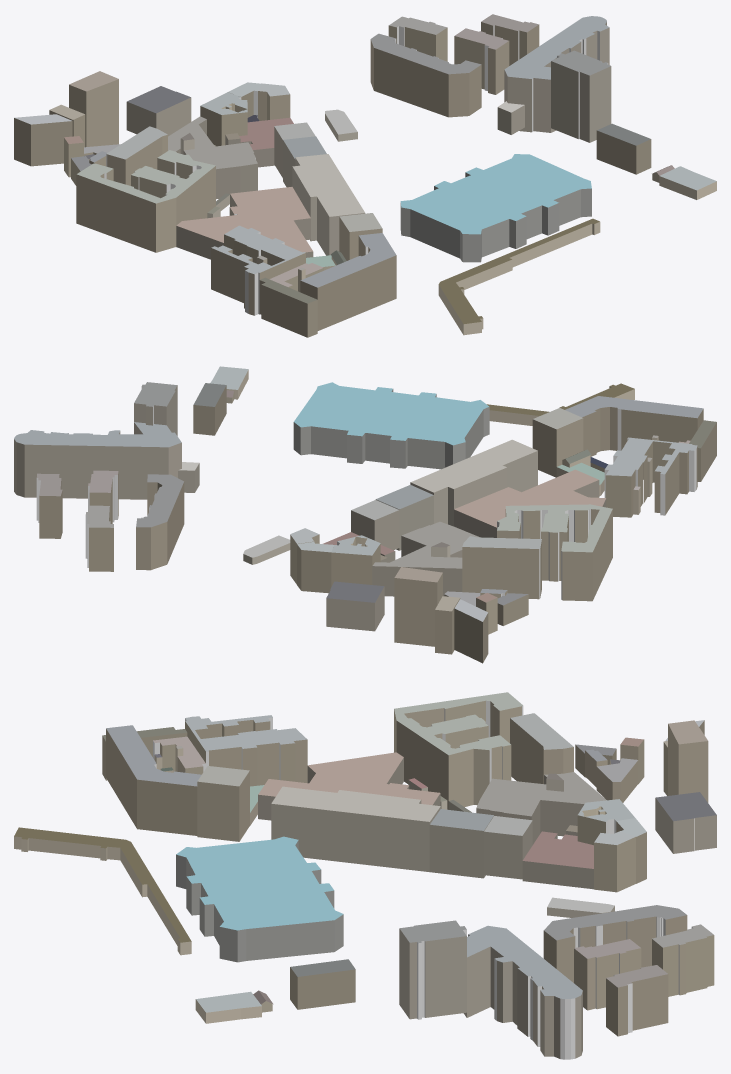
3 views of the same model, one above another, from view 1: azimuth 30°, elevation 25°; view 2: azimuth 150°, elevation 25°; view 3: azimuth 270°, elevation 25° (orthographic). The views are drawn at different scales.
Visible parts, largest first — view 1: tuile; view 2: tuile; view 3: tuile.
Boxes of the visible parts, x1,y1,x2,y2 form: tuile: (14, 14, 716, 337); tuile: (14, 366, 716, 663); tuile: (14, 692, 716, 1059).
Size of the model in its own units: 304 by 39.24 by 294.
